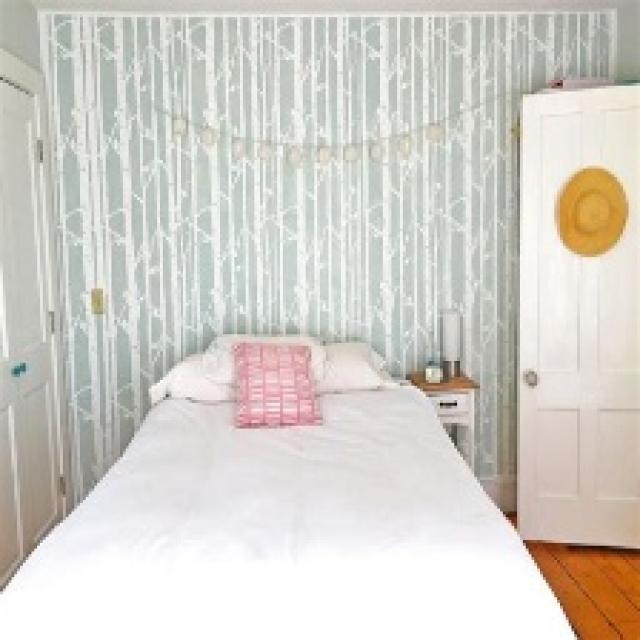Bed: (0, 334, 594, 637)
